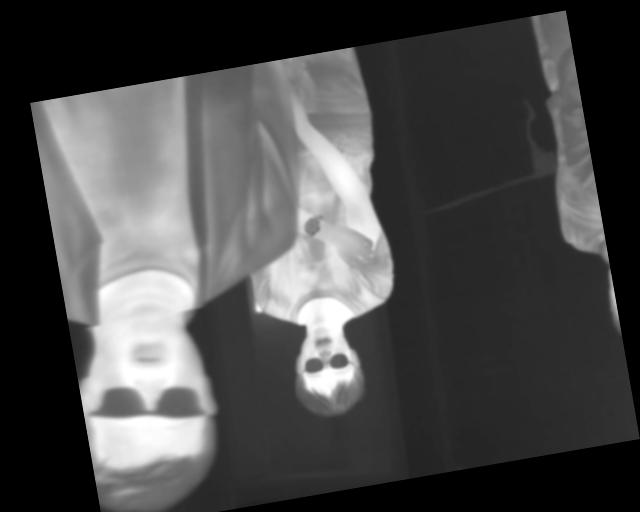face: (68, 299, 235, 512), (285, 317, 370, 423)
